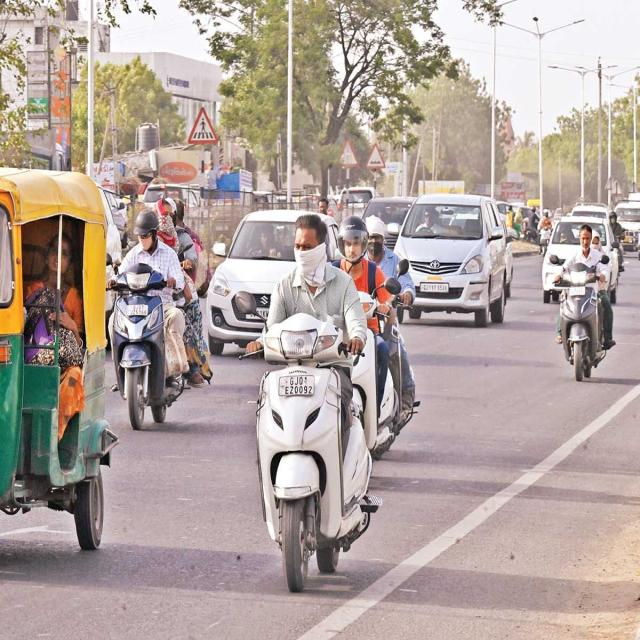autorickshaw: (0, 168, 119, 548)
car: (395, 193, 510, 327), (206, 210, 307, 355)
motorcycle: (235, 213, 381, 592), (109, 200, 212, 428), (555, 223, 615, 382)
